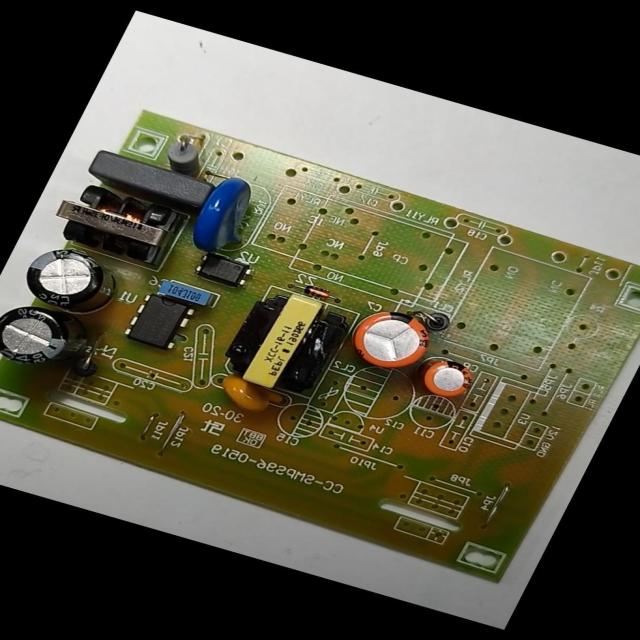Cap1: (338, 303, 445, 378)
Cap2: (416, 355, 480, 403)
Cap3: (13, 240, 128, 319)
Cap4: (0, 299, 101, 379)
MOSFET: (120, 289, 199, 352)
Mov: (180, 171, 269, 259)
Resistor: (158, 136, 218, 179)
Transformer: (210, 282, 353, 400), (41, 175, 188, 266)
